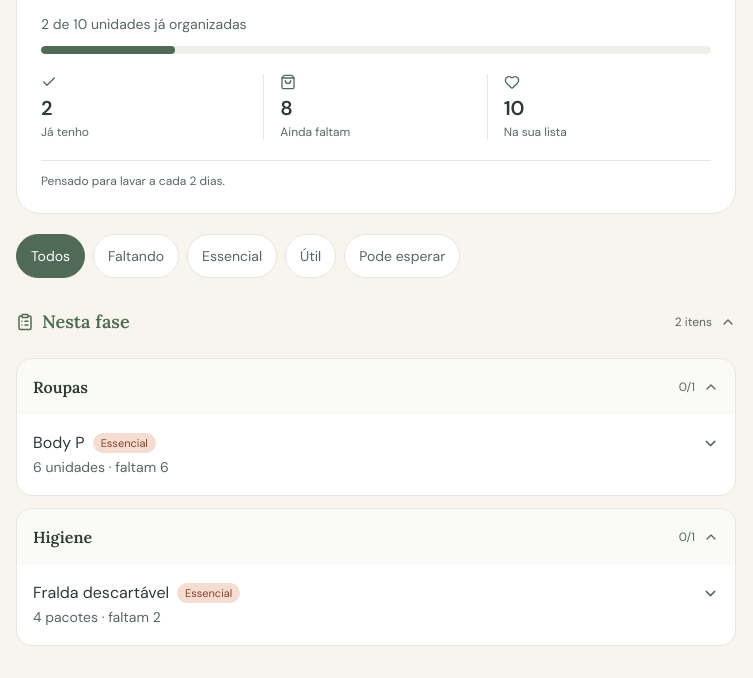
it: Planilha › incrementar comprada atualiza o contador visualmente
(page scrolled)
Expected: the heading "Roupas" is shown, [33,375,88,399]
Click the button "Body P Essencial 6 unidades · faltam 6" at (52, 442), box [17,415,735,495]
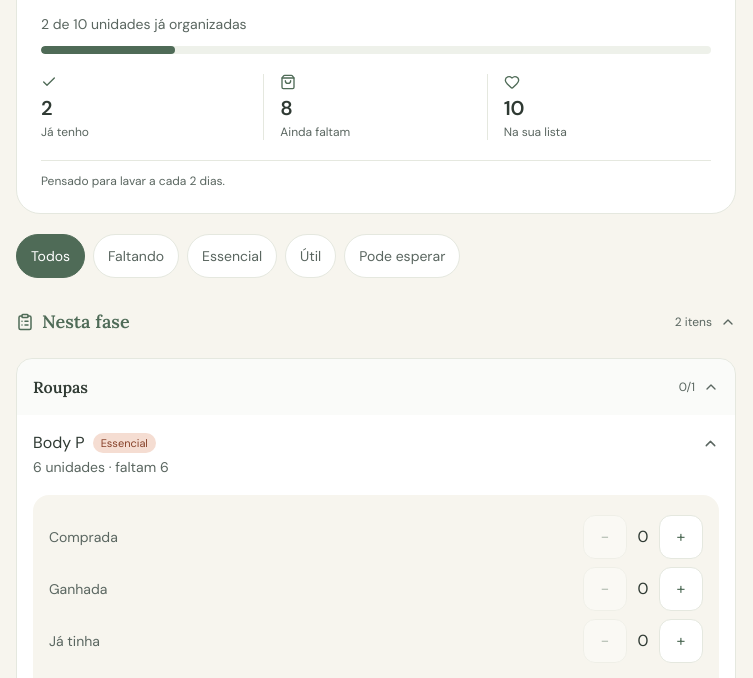
Result: the button named "+ comprada" is shown
// Agora os contadores aparecem — clica em + Comprada
Click the button named "+ comprada" at (681, 537), box [659,515,703,559]
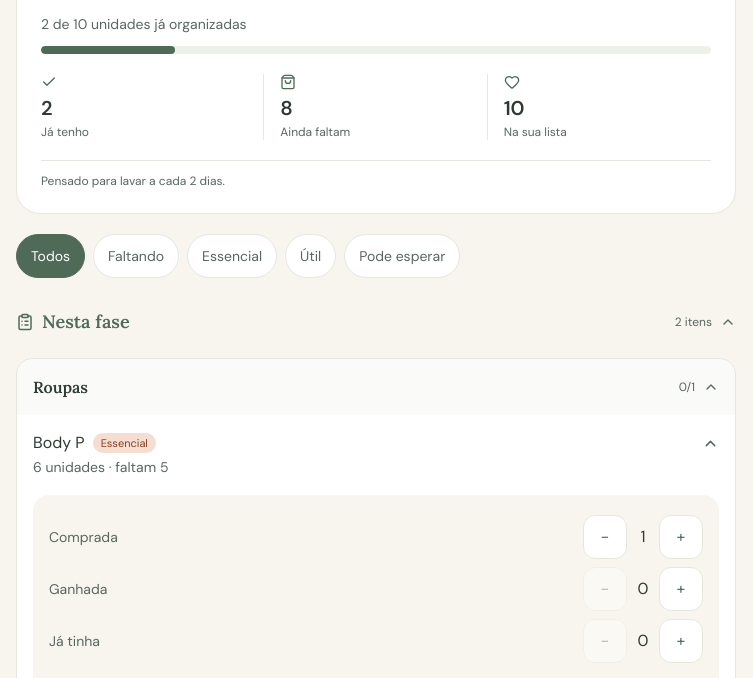
Result: the text "1" is shown at [640,526,646,547]
